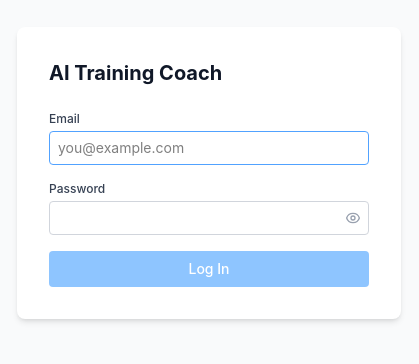
Scenario: LoginPage form behavior and error states › shows lockout message from API body on 429 response
Type "user@example.com" into the field labelled "Email" at point(209, 148), box top-left (49, 131), bottom-right (369, 165)
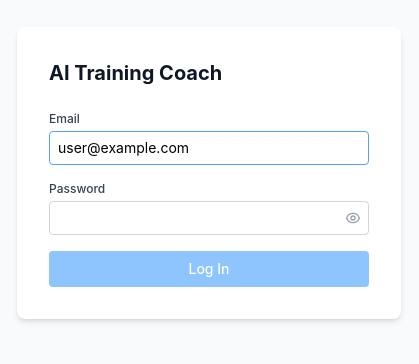
Type "wrongpassword" into the password field labelled "Password" at point(209, 218), box top-left (49, 201), bottom-right (369, 235)
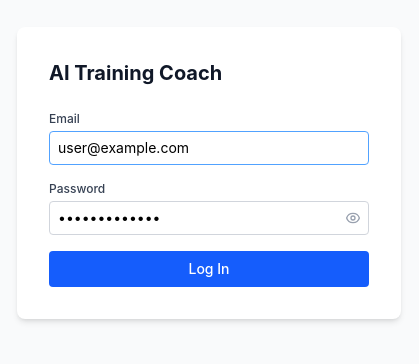
Click the button "Log In" at point(209, 269), box top-left (49, 251), bottom-right (369, 287)
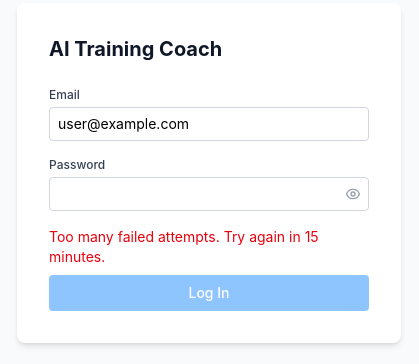
Result: the text "Too many failed attempts. Try again in 15 minutes." is shown at top-left (49, 228), bottom-right (319, 265)
Result: the password field labelled "Password" is empty at top-left (49, 177), bottom-right (369, 211)
